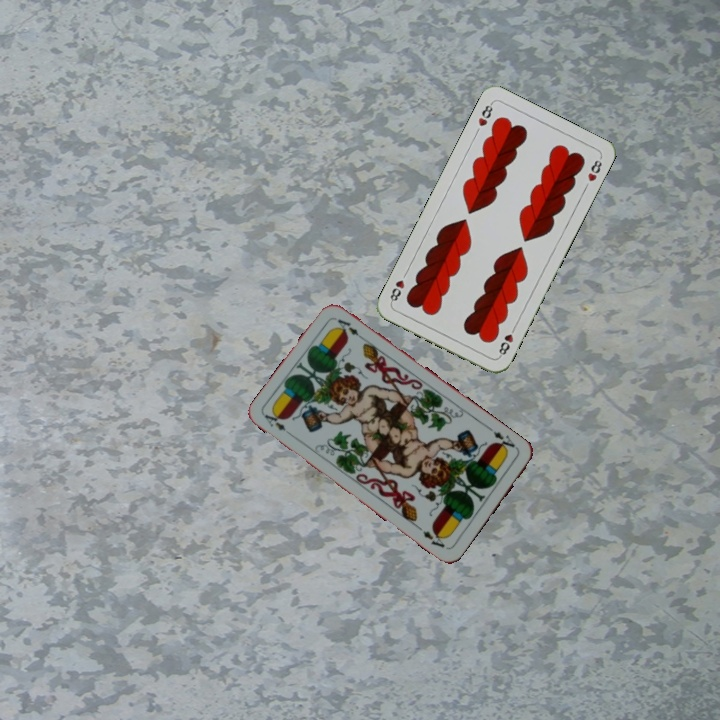EA: (260, 409, 296, 439), (485, 424, 517, 455)
H8: (495, 322, 519, 359), (474, 99, 495, 129)
